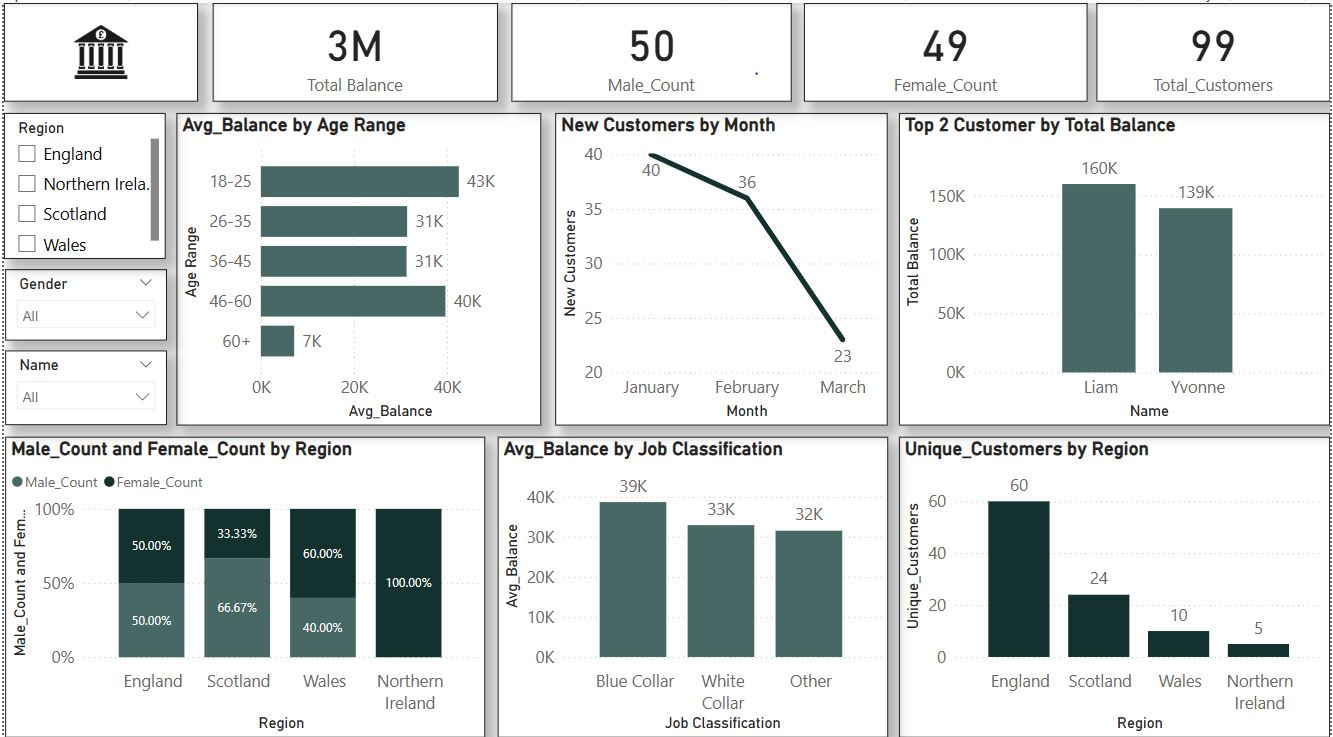

The page's visual inventory and layout, read from the dashboard file:
{"tool":"powerbi","page":{"name":"Final Dashboard ","canvas":[1280,720],"ordinal":6},"visuals":[{"type":"hundredPercentStackedColumnChart","fields":{"Category":["P6-UK-Bank-Customers (2) - Copy.Region"],"Y":["P6-UK-Bank-Customers (2) - Copy.Male_Count","P6-UK-Bank-Customers (2) - Copy.Female_Count"]},"box":[1.2,418.6,463.3,290.8],"z":0},{"type":"clusteredColumnChart","fields":{"Y":["P6-UK-Bank-Customers (2) - Copy.Unique_Customers"],"Category":["P6-UK-Bank-Customers (2) - Copy.Region"]},"box":[863.8,418.6,416.2,290.8],"z":1000},{"type":"clusteredColumnChart","fields":{"Category":["P6-UK-Bank-Customers (2) - Copy.Job Classification"],"Y":["P6-UK-Bank-Customers (2) - Copy.Avg_Balance"]},"box":[476.5,418.6,376.4,290.8],"z":2000},{"type":"clusteredBarChart","fields":{"Y":["P6-UK-Bank-Customers (2) - Copy.Avg_Balance"],"Category":["P6-UK-Bank-Customers (2) - Copy.Age Range"]},"box":[166.5,106.2,352.3,301.6],"z":3000},{"type":"lineChart","fields":{"Category":["P6-UK-Bank-Customers (2) - Copy.Date Joined.Variation.Date Hierarchy.Month"],"Y":["P6-UK-Bank-Customers (2) - Copy.New Customers"]},"box":[532,106.2,320.9,301.6],"z":4000},{"type":"columnChart","title":"Top 2 Customer by Total Balance","fields":{"Y":["P6-UK-Bank-Customers (2) - Copy.Total Balance"],"Category":["P6-UK-Bank-Customers (2) - Copy.Name"]},"box":[863.8,106.2,416.2,301.6],"z":5000},{"type":"card","fields":{"Values":["P6-UK-Bank-Customers (2) - Copy.Total Balance"]},"box":[201.5,0,275.1,95.3],"z":6000},{"type":"card","fields":{"Values":["P6-UK-Bank-Customers (2) - Copy.Male_Count"]},"box":[489.8,0,270.2,95.3],"z":7000},{"type":"card","fields":{"Values":["P6-UK-Bank-Customers (2) - Copy.Female_Count"]},"box":[772.1,0,273.9,95.3],"z":8000},{"type":"card","fields":{"Values":["P6-UK-Bank-Customers (2) - Copy.Total_Customers"]},"box":[1054.4,0,225.6,95.3],"z":9000},{"type":"image","box":[0,0,187,95.3],"z":10000},{"type":"slicer","fields":{"Values":["P6-UK-Bank-Customers (2) - Copy.Gender"]},"box":[1.2,257,155.6,68.8],"z":10001},{"type":"slicer","fields":{"Values":["P6-UK-Bank-Customers (2) - Copy.Region"]},"box":[0,106.2,155.6,141.2],"z":10002},{"type":"slicer","fields":{"Values":["P6-UK-Bank-Customers (2) - Copy.Name"]},"box":[1.2,335.4,155.6,72.4],"z":10003}]}

Visuals, with their boxes in screenshot pixels (x1, y1, x2, y2), scaled from the page's 1280x720 canvas onto the 1333x737 screenshot:
hundredPercentStackedColumnChart - P6-UK-Bank-Customers (2) - Copy.Region x P6-UK-Bank-Customers (2) - Copy.Male_Count: bbox=(1, 428, 484, 726)
clusteredColumnChart - P6-UK-Bank-Customers (2) - Copy.Unique_Customers x P6-UK-Bank-Customers (2) - Copy.Region: bbox=(900, 428, 1332, 726)
clusteredColumnChart - P6-UK-Bank-Customers (2) - Copy.Job Classification x P6-UK-Bank-Customers (2) - Copy.Avg_Balance: bbox=(496, 428, 888, 726)
clusteredBarChart - P6-UK-Bank-Customers (2) - Copy.Avg_Balance x P6-UK-Bank-Customers (2) - Copy.Age Range: bbox=(173, 109, 540, 417)
lineChart - P6-UK-Bank-Customers (2) - Copy.Date Joined.Variation.Date Hierarchy.Month x P6-UK-Bank-Customers (2) - Copy.New Customers: bbox=(554, 109, 888, 417)
"Top 2 Customer by Total Balance" columnChart: bbox=(900, 109, 1332, 417)
card - P6-UK-Bank-Customers (2) - Copy.Total Balance: bbox=(210, 0, 496, 98)
card - P6-UK-Bank-Customers (2) - Copy.Male_Count: bbox=(510, 0, 791, 98)
card - P6-UK-Bank-Customers (2) - Copy.Female_Count: bbox=(804, 0, 1089, 98)
card - P6-UK-Bank-Customers (2) - Copy.Total_Customers: bbox=(1098, 0, 1332, 98)
image: bbox=(0, 0, 195, 98)
slicer - P6-UK-Bank-Customers (2) - Copy.Gender: bbox=(1, 263, 163, 333)
slicer - P6-UK-Bank-Customers (2) - Copy.Region: bbox=(0, 109, 162, 253)
slicer - P6-UK-Bank-Customers (2) - Copy.Name: bbox=(1, 343, 163, 417)
